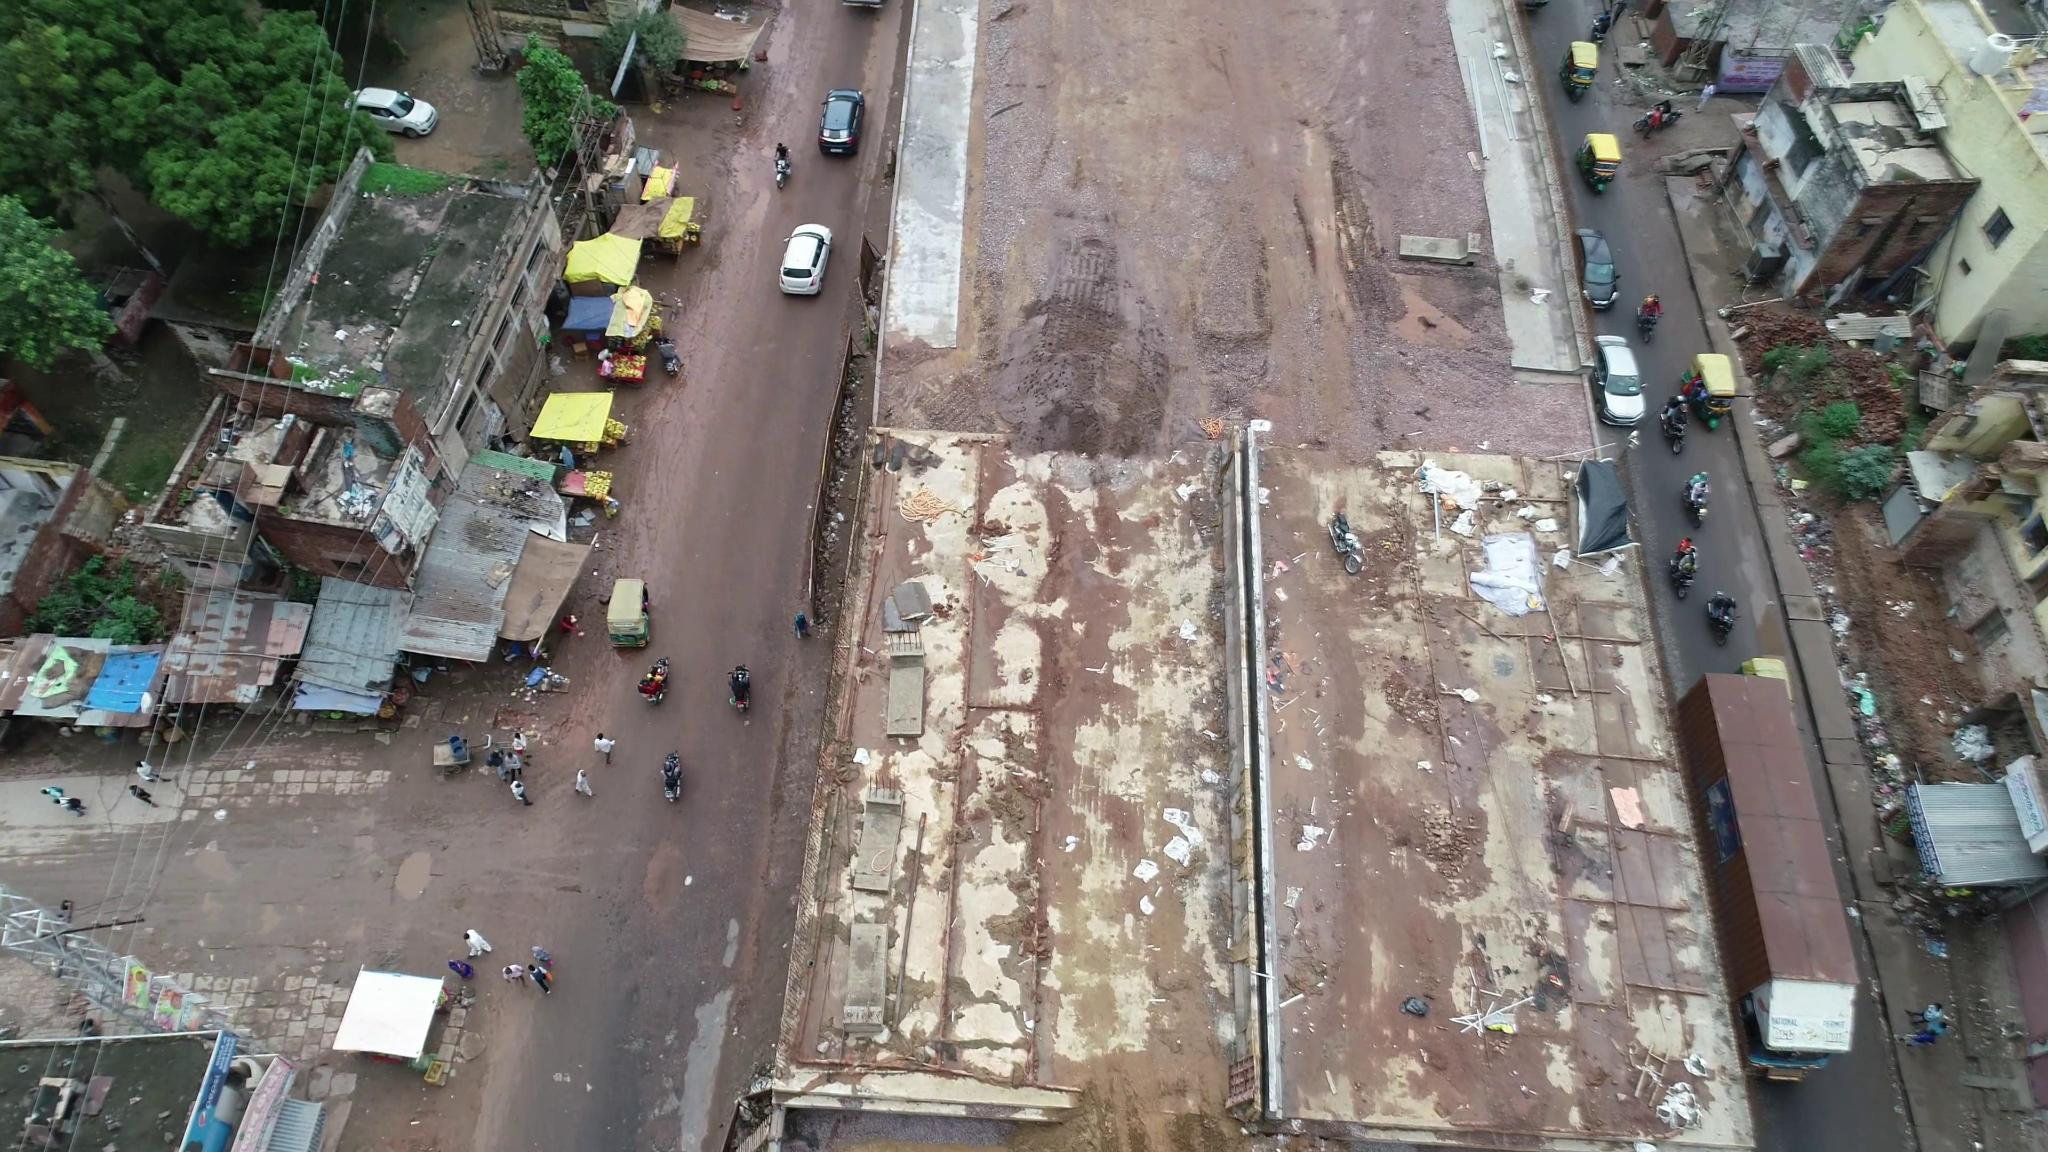Muddy_road: (643, 354, 793, 537)
